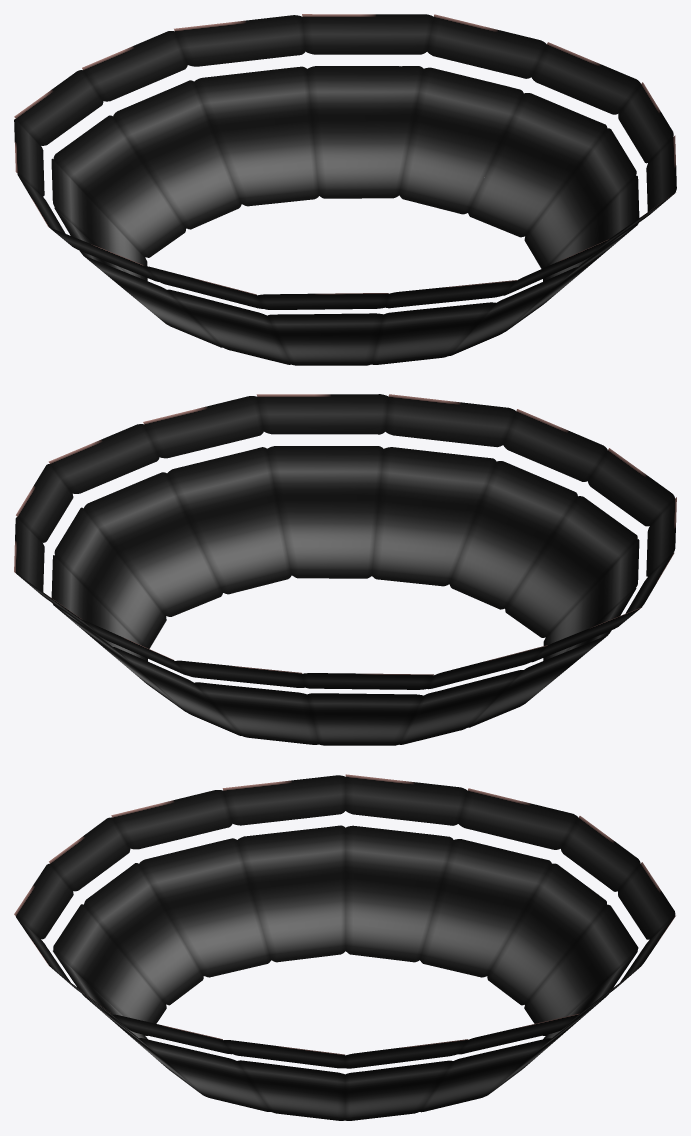
3 views of the same model, one above another, from view 1: azimuth 30°, elevation 25°; view 2: azimuth 150°, elevation 25°; view 3: azimuth 270°, elevation 25° (orthographic). The views are drawn at different scales.
Visible parts, largest first — view 1: T1L4M004_24; view 2: T1L4M004_24; view 3: T1L4M004_24.
Boxes of the visible parts, <box> form: T1L4M004_24: <box>14,14,676,365</box>; T1L4M004_24: <box>14,394,676,745</box>; T1L4M004_24: <box>14,774,675,1120</box>.
Bounding box in the file's own units: 2.87 × 0.5947 × 2.87.
